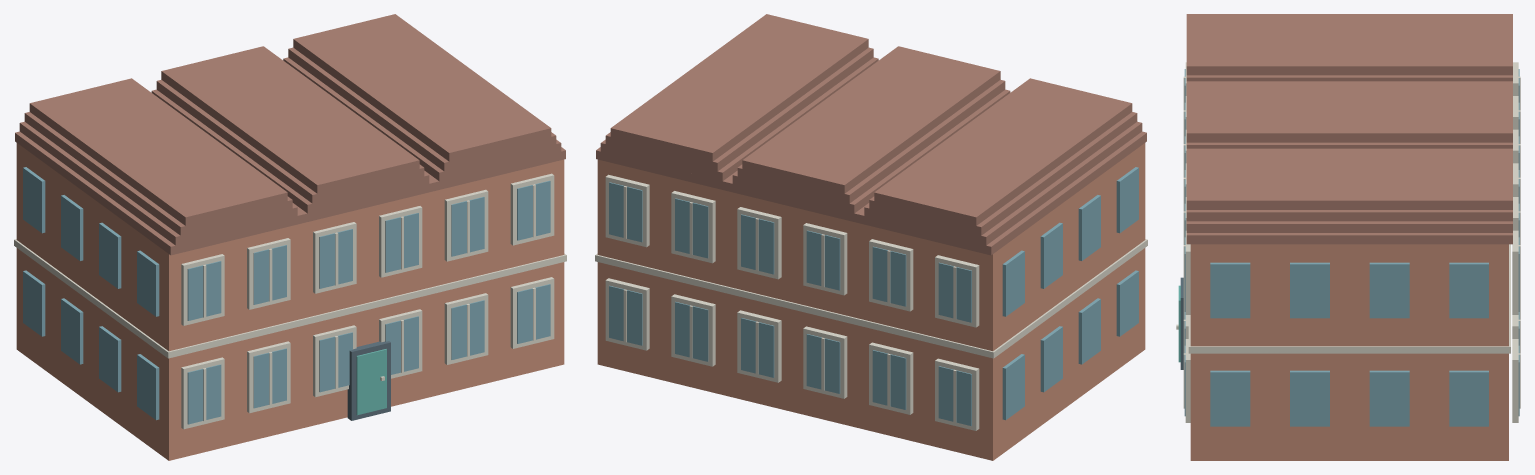
3 views of the same model, side by side, from view 1: azimuth 30°, elevation 25°; view 2: azimuth 150°, elevation 25°; view 3: azimuth 270°, elevation 25° (orthographic). The views are drawn at different scales.
Parts seen in each view (by area): view 1: sawtooth-lofts-roof, sawtooth-lofts-brick, sawtooth-lofts-glass, sawtooth-lofts-concrete, sawtooth-lofts-accent, sawtooth-lofts-dark; view 2: sawtooth-lofts-roof, sawtooth-lofts-brick, sawtooth-lofts-glass, sawtooth-lofts-concrete; view 3: sawtooth-lofts-roof, sawtooth-lofts-brick, sawtooth-lofts-glass, sawtooth-lofts-concrete, sawtooth-lofts-dark.
Boxes of the visible parts, left/top/right/bottom form: sawtooth-lofts-roof: left=15, top=14, right=565, bottom=255; sawtooth-lofts-brick: left=16, top=143, right=564, bottom=460; sawtooth-lofts-glass: left=23, top=167, right=550, bottom=424; sawtooth-lofts-concrete: left=14, top=173, right=566, bottom=429; sawtooth-lofts-accent: left=356, top=349, right=386, bottom=415; sawtooth-lofts-dark: left=347, top=341, right=390, bottom=420; sawtooth-lofts-roof: left=596, top=14, right=1146, bottom=255; sawtooth-lofts-brick: left=597, top=143, right=1145, bottom=460; sawtooth-lofts-glass: left=609, top=167, right=1138, bottom=425; sawtooth-lofts-concrete: left=595, top=174, right=1147, bottom=430; sawtooth-lofts-roof: left=1186, top=14, right=1512, bottom=244; sawtooth-lofts-brick: left=1190, top=244, right=1508, bottom=460; sawtooth-lofts-glass: left=1184, top=69, right=1519, bottom=426; sawtooth-lofts-concrete: left=1176, top=62, right=1520, bottom=422; sawtooth-lofts-dark: left=1180, top=277, right=1183, bottom=369.
Size of the model in its own units: 12.2 by 7 by 8.66.
